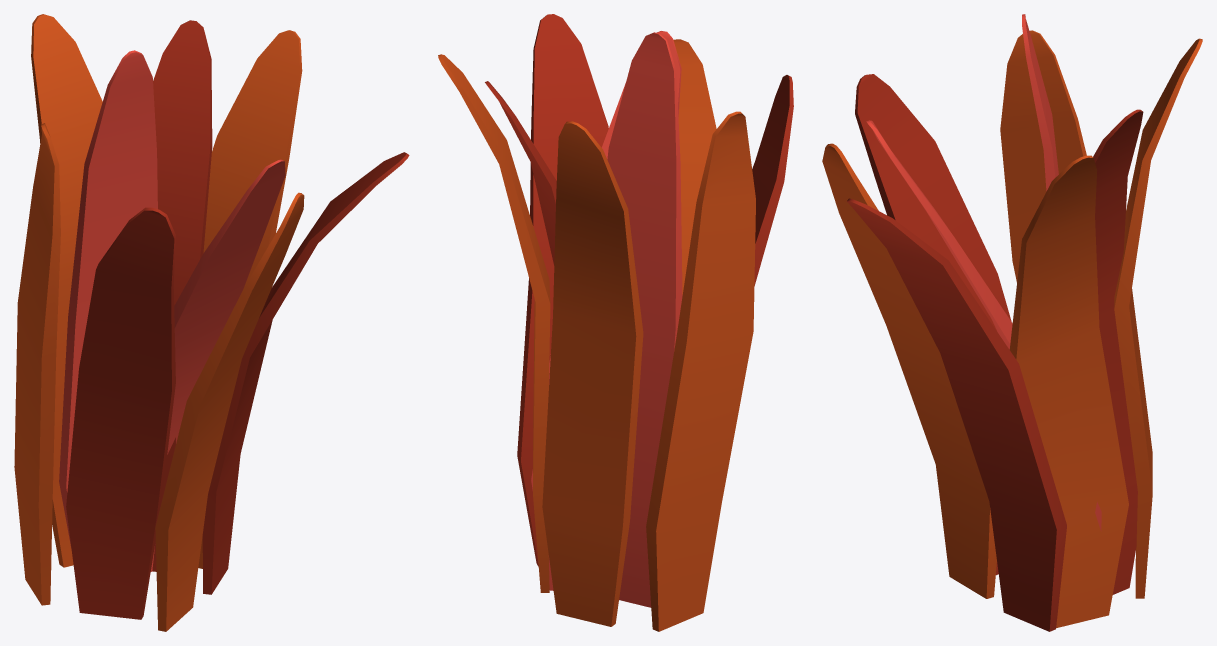
The model's file is GrassOBJ.FBX.
The picture shows the model from 3 angles, left to right: view 1: azimuth 30°, elevation 25°; view 2: azimuth 150°, elevation 25°; view 3: azimuth 270°, elevation 25°; orthographic projection. The views are drawn at different scales.
Visible parts, largest first — view 1: Grass; view 2: Grass; view 3: Grass.
Part boxes in pixels (x1,y1,x2,y2): Grass: (14, 14, 409, 631); Grass: (438, 14, 793, 631); Grass: (822, 14, 1202, 631).
Bounding box in the file's own units: 21.3 × 38.73 × 23.72.
